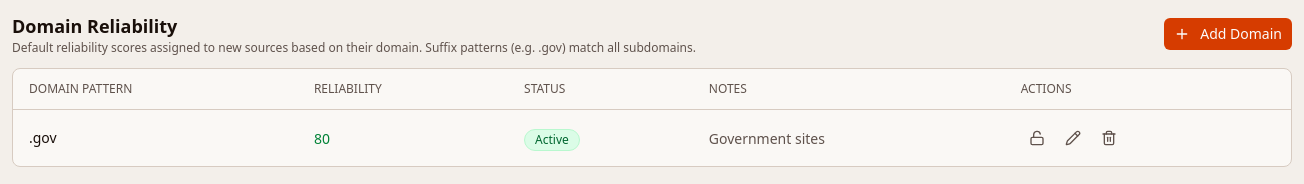
it: DomainReliabilityTable › enters edit mode when Edit button is clicked
Click the button titled "edit": point(1073, 138) [1057,122,1089,154]
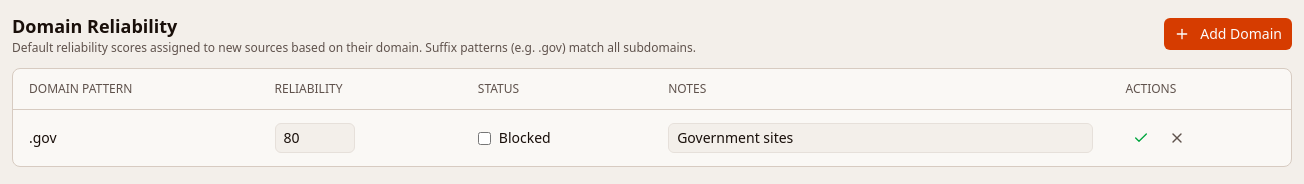
Expected: the button titled "save" is shown, [1126,122,1158,154]
Expected: the button titled "cancel" is shown, [1162,122,1194,154]
